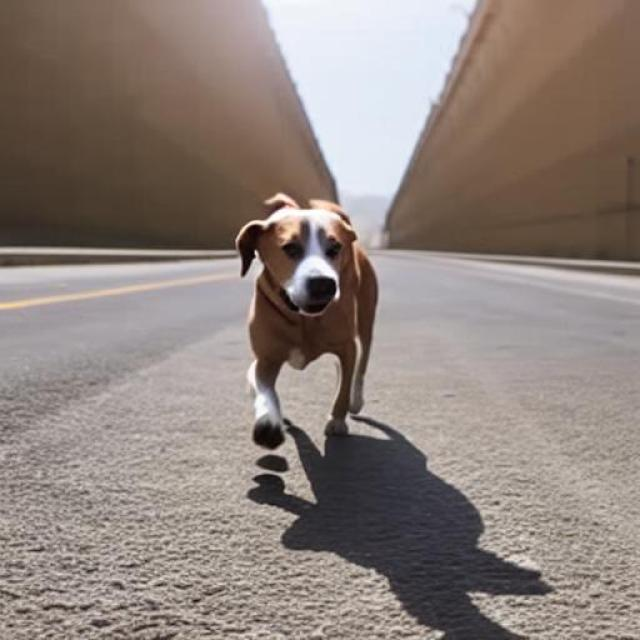Dog: (235, 191, 378, 450)
